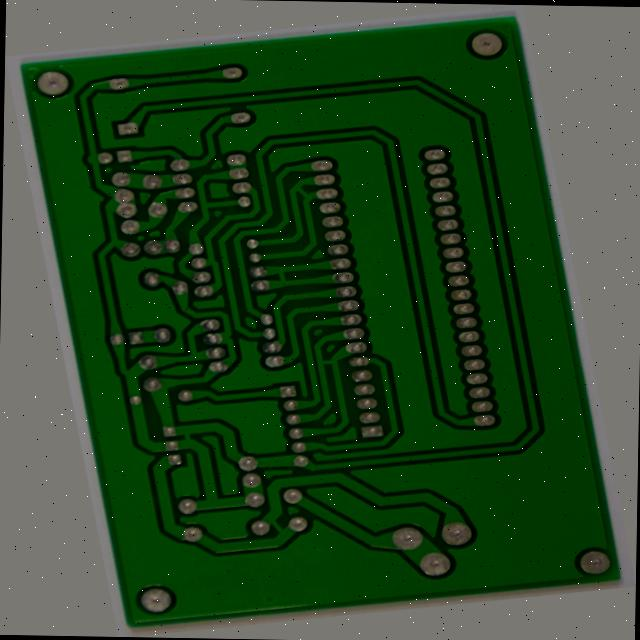short: (197, 520, 232, 554), (314, 165, 347, 196), (303, 353, 331, 379), (116, 415, 144, 441), (273, 255, 300, 280)
